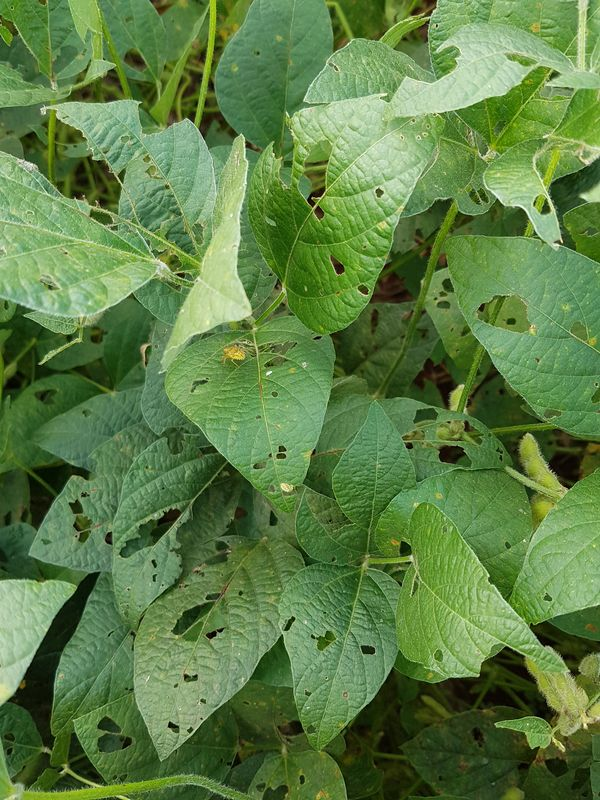Euschistus_heros_ninfa: (215, 339, 254, 372)
